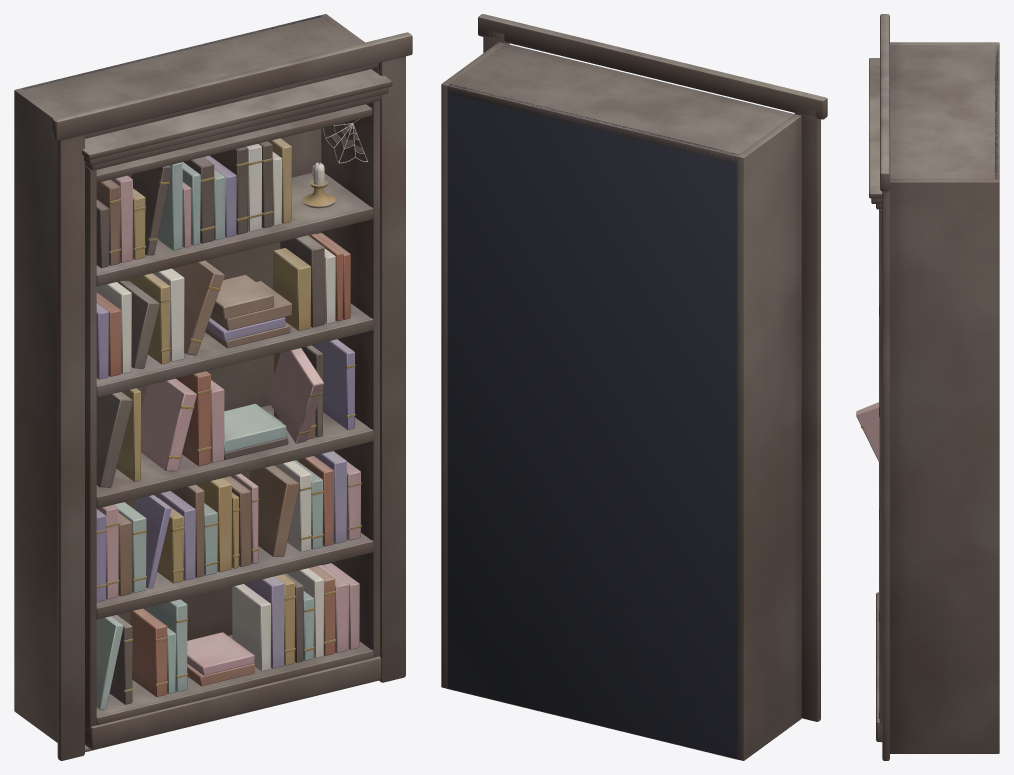
The model's file is secret-bookcase-door.glb.
3 views of the same model, side by side, from view 1: azimuth 30°, elevation 25°; view 2: azimuth 150°, elevation 25°; view 3: azimuth 270°, elevation 25° (orthographic). The views are drawn at different scales.
Parts seen in each view (by area): view 1: secret-bookcase-door_door, secret-bookcase-door_body; view 2: secret-bookcase-door_body; view 3: secret-bookcase-door_body, secret-bookcase-door_door.
Part boxes in pixels (x1=…): secret-bookcase-door_door: x1=82, y1=69, x2=392, y2=749; secret-bookcase-door_body: x1=14, y1=14, x2=412, y2=760; secret-bookcase-door_body: x1=441, y1=14, x2=827, y2=760; secret-bookcase-door_body: x1=880, y1=14, x2=999, y2=760; secret-bookcase-door_door: x1=856, y1=58, x2=882, y2=742.
Bounding box in the file's own units: 1.28 × 2.2 × 0.4836.
4 materials, 2 textured.
